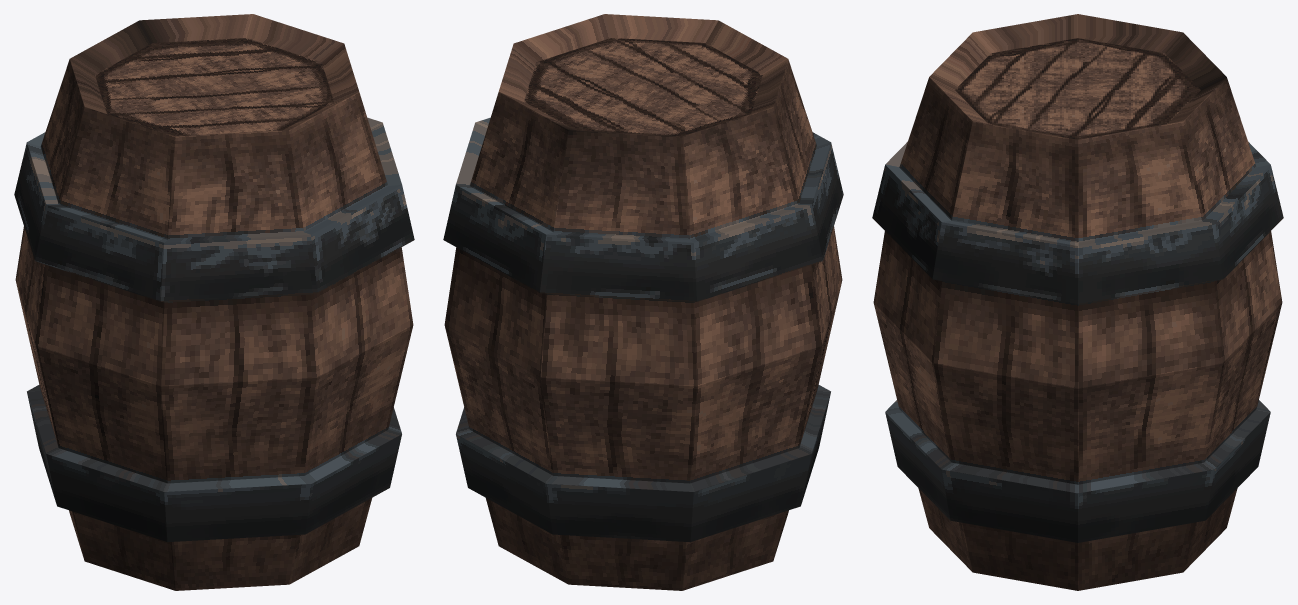
Rendered from barrel.glb.
The picture shows the model from 3 angles, left to right: view 1: azimuth 30°, elevation 25°; view 2: azimuth 150°, elevation 25°; view 3: azimuth 270°, elevation 25°; orthographic projection.
Parts seen in each view (by area): view 1: barrel; view 2: barrel; view 3: barrel.
Part boxes in pixels (x1,y1,x2,y2): barrel: [14, 14, 414, 590]; barrel: [443, 14, 843, 590]; barrel: [872, 14, 1283, 590].
Bounding box in the file's own units: 1.16 × 1.4 × 1.16.
1 material, 1 textured.
